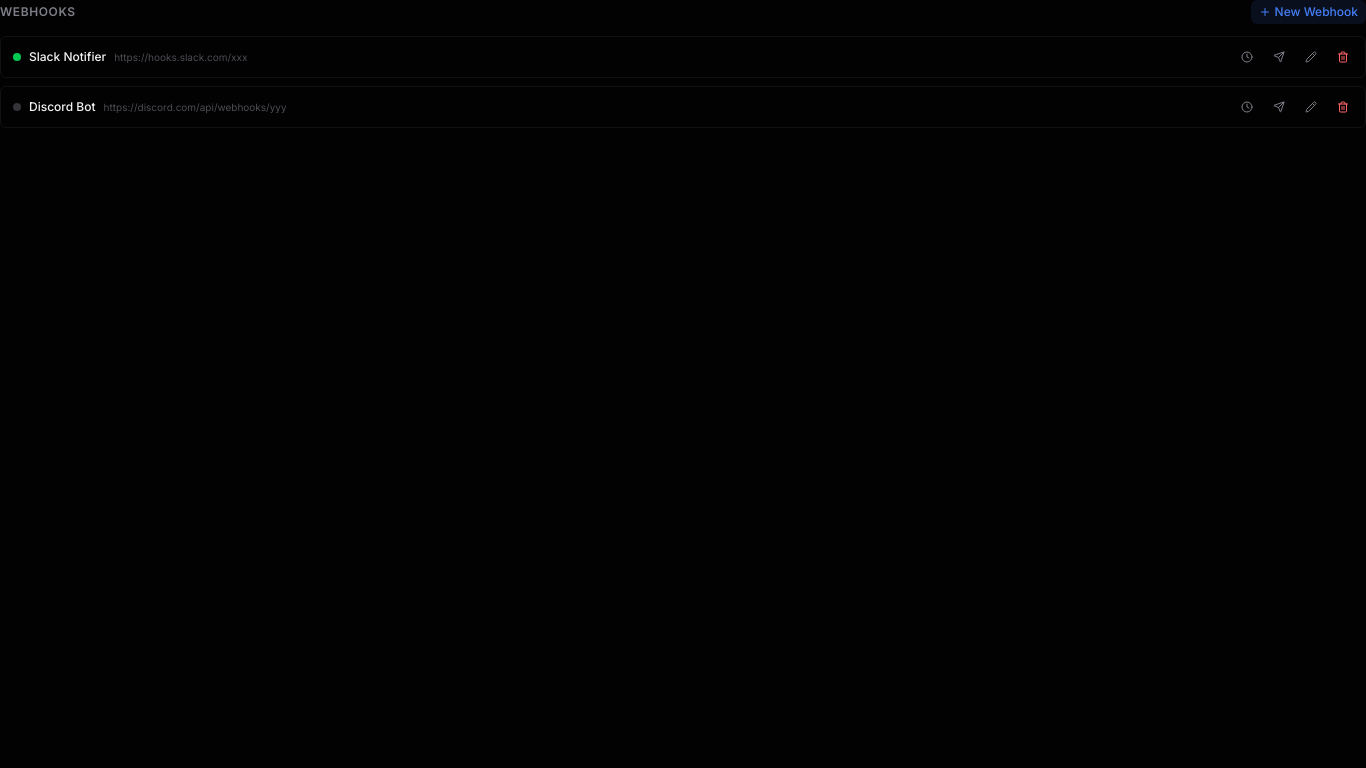
it: WebhookSettings › opens create form when New Webhook is clicked
The image size is (1366, 768).
Check: the text "Slack Notifier" is shown, box [29,49,106,65]
Click the button "New Webhook". click: (1308, 12)
box: [1251,0,1365,24]
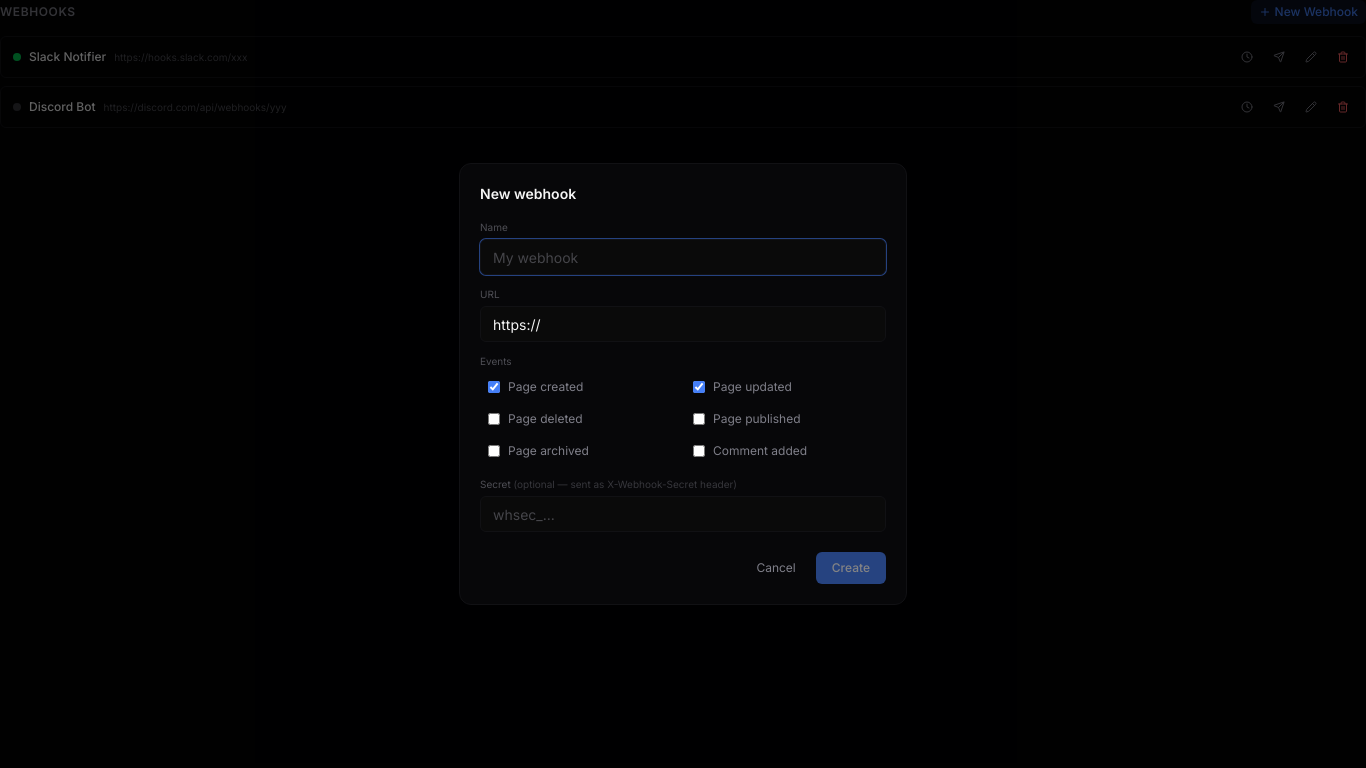
Check: the heading "New webhook" is shown, box [480,185,576,202]
Check: the field with placeholder "My webhook" is shown, box [480,239,886,275]
